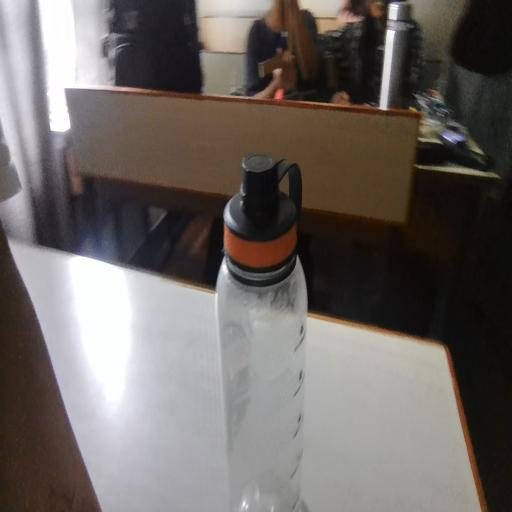Bottle: (213, 127, 324, 502)
